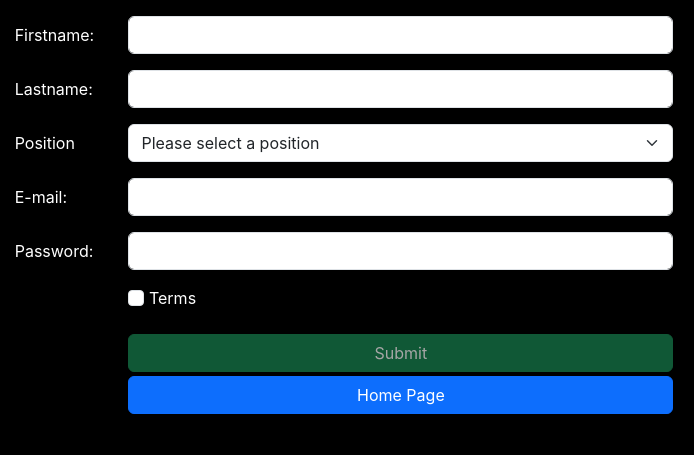
Scenario: Form Tests › checks email input errors
The image size is (694, 455).
Type "aa" into the field with test id "input-email". click: (401, 197)
box: [128,178,673,216]
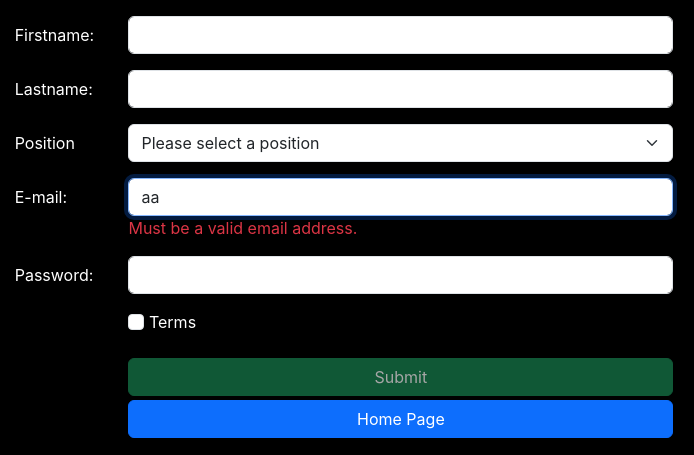
Check: the number of elements with test id "error" is 1, box [128,218,357,238]
Check: the text with test id "error" reads "Must be a valid email address.", box [128,218,357,238]
Clear the field with test id "input-email". click: (401, 197)
box: [128,178,673,216]
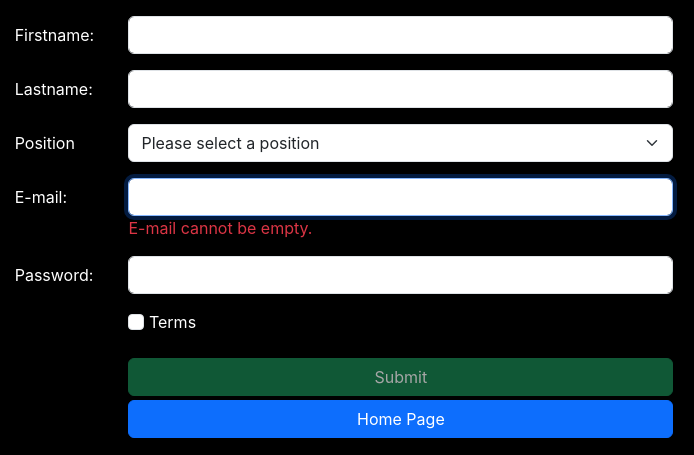
Check: the number of elements with test id "error" is 1, box [128,218,312,238]
Check: the text with test id "error" reads "E-mail cannot be empty.", box [128,218,312,238]
